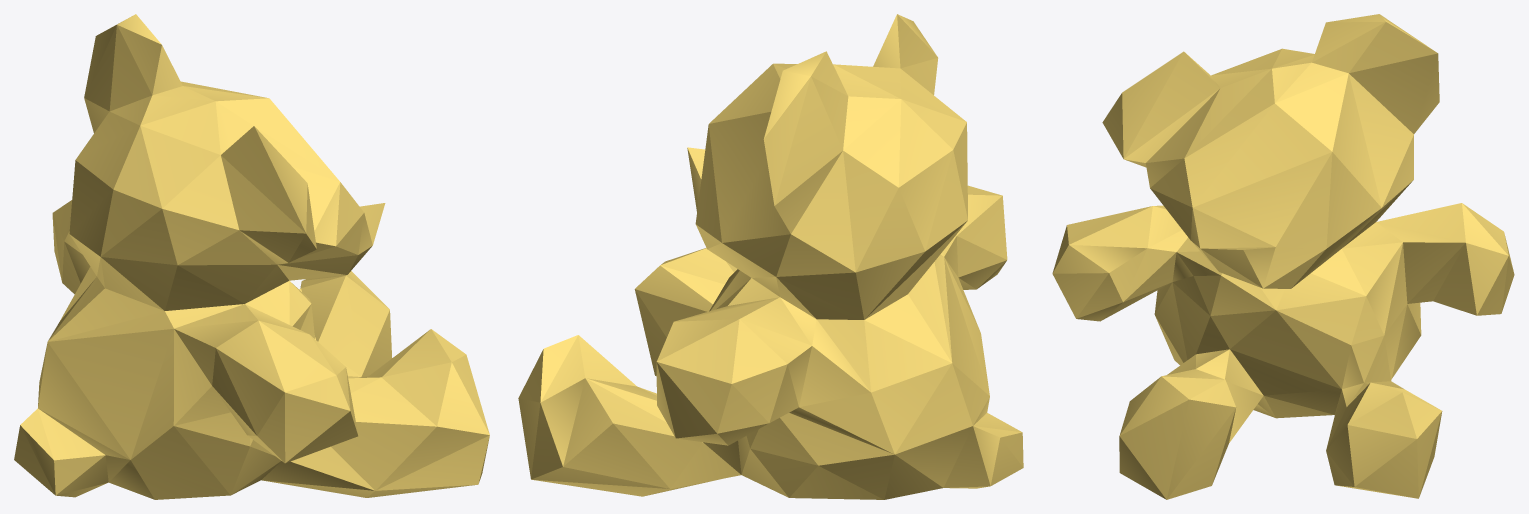
3 renders of one model, left to right at view 1: azimuth 30°, elevation 25°; view 2: azimuth 150°, elevation 25°; view 3: azimuth 270°, elevation 25°, orthographic. The views are drawn at different scales.
Visible parts, largest first — view 1: Mesh1; view 2: Mesh1; view 3: Mesh1.
Part boxes in pixels (x1=…): Mesh1: x1=14, y1=14, x2=489, y2=499; Mesh1: x1=518, y1=14, x2=1023, y2=499; Mesh1: x1=1052, y1=14, x2=1514, y2=499.
Size of the model in its own units: 0.3233 by 0.3364 by 0.3616.
